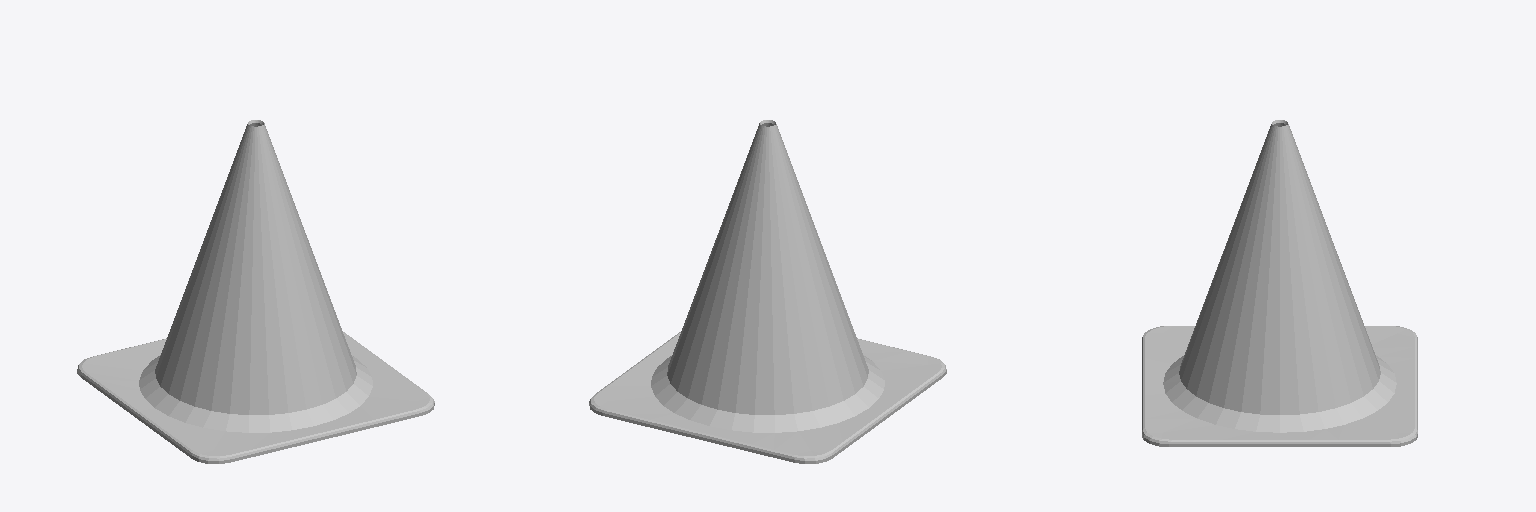
The picture shows the model from 3 angles: view 1: azimuth 30°, elevation 25°; view 2: azimuth 150°, elevation 25°; view 3: azimuth 270°, elevation 25°; orthographic projection.
Parts seen in each view (by area): view 1: Cone_Cylinder; view 2: Cone_Cylinder; view 3: Cone_Cylinder.
Boxes of the visible parts, x1=… form: Cone_Cylinder: x1=77, y1=120, x2=434, y2=463; Cone_Cylinder: x1=589, y1=120, x2=946, y2=463; Cone_Cylinder: x1=1142, y1=120, x2=1417, y2=446.
Bounding box in the file's own units: 1.87 × 1.98 × 1.87.